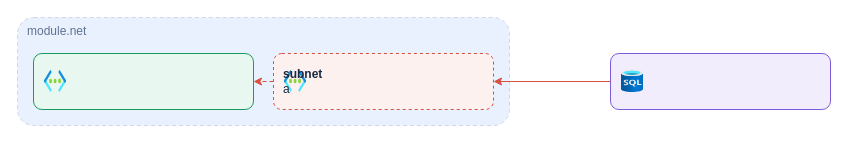
This 848x143 diagram has some shape labels left out. Each missing label, with the box of its shape:
s3_bucket logs: (610, 52, 830, 110)
virtual_network this: (32, 52, 254, 110)
